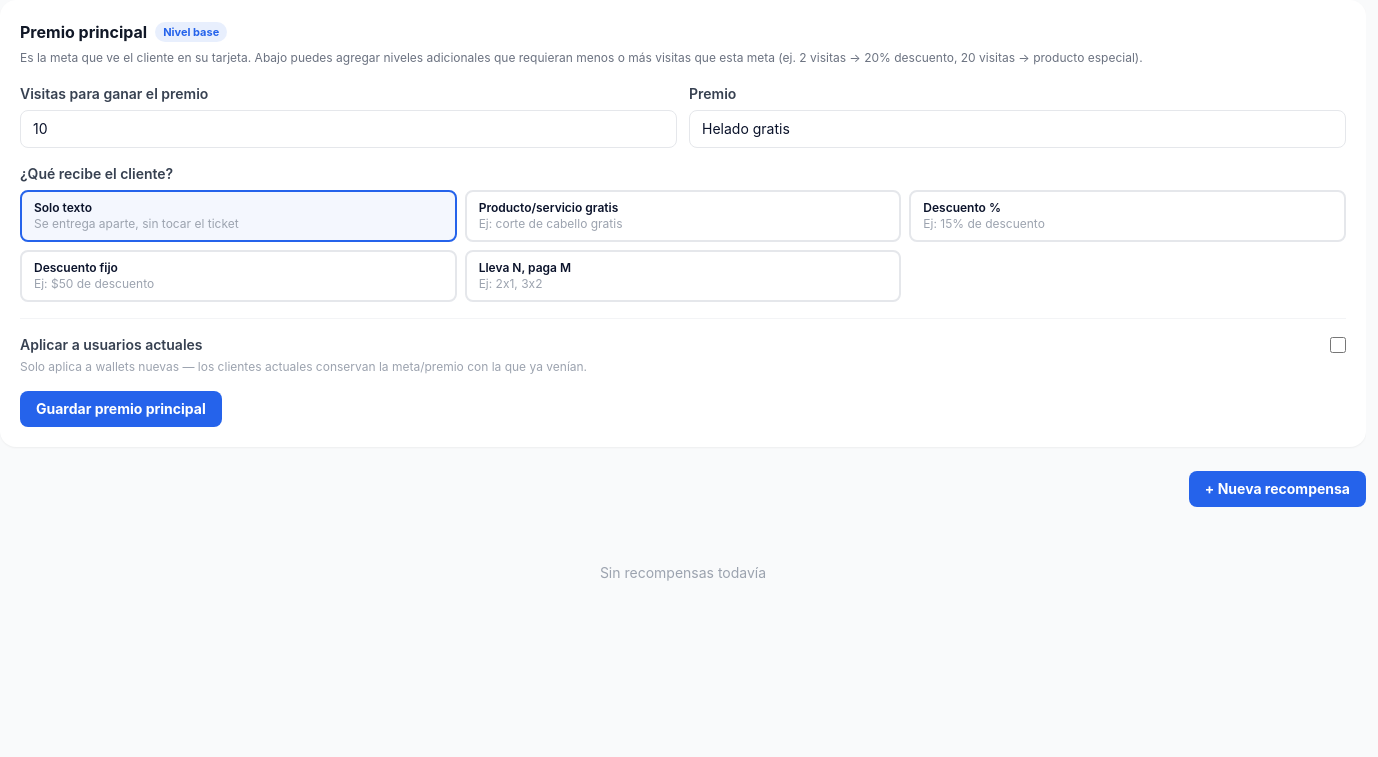
Premio principal configurable › valida la config antes de guardar (descuento sin porcentaje)
This screenshot has width=1378, height=757.
Click the button "Descuento % Ej: 15% de descuento" at (962, 208), box [909, 190, 1346, 242]
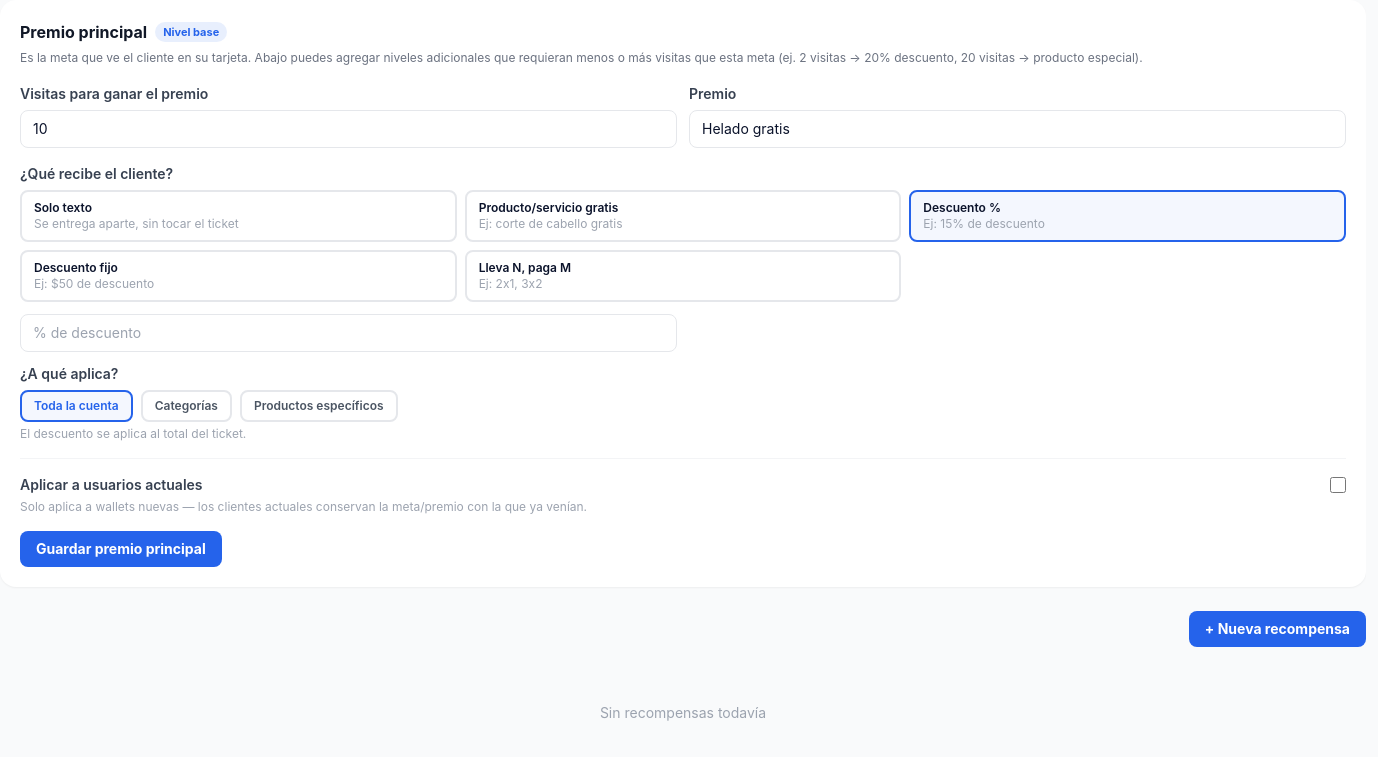
Click the button "Guardar premio principal" at (121, 549), box [20, 531, 222, 567]
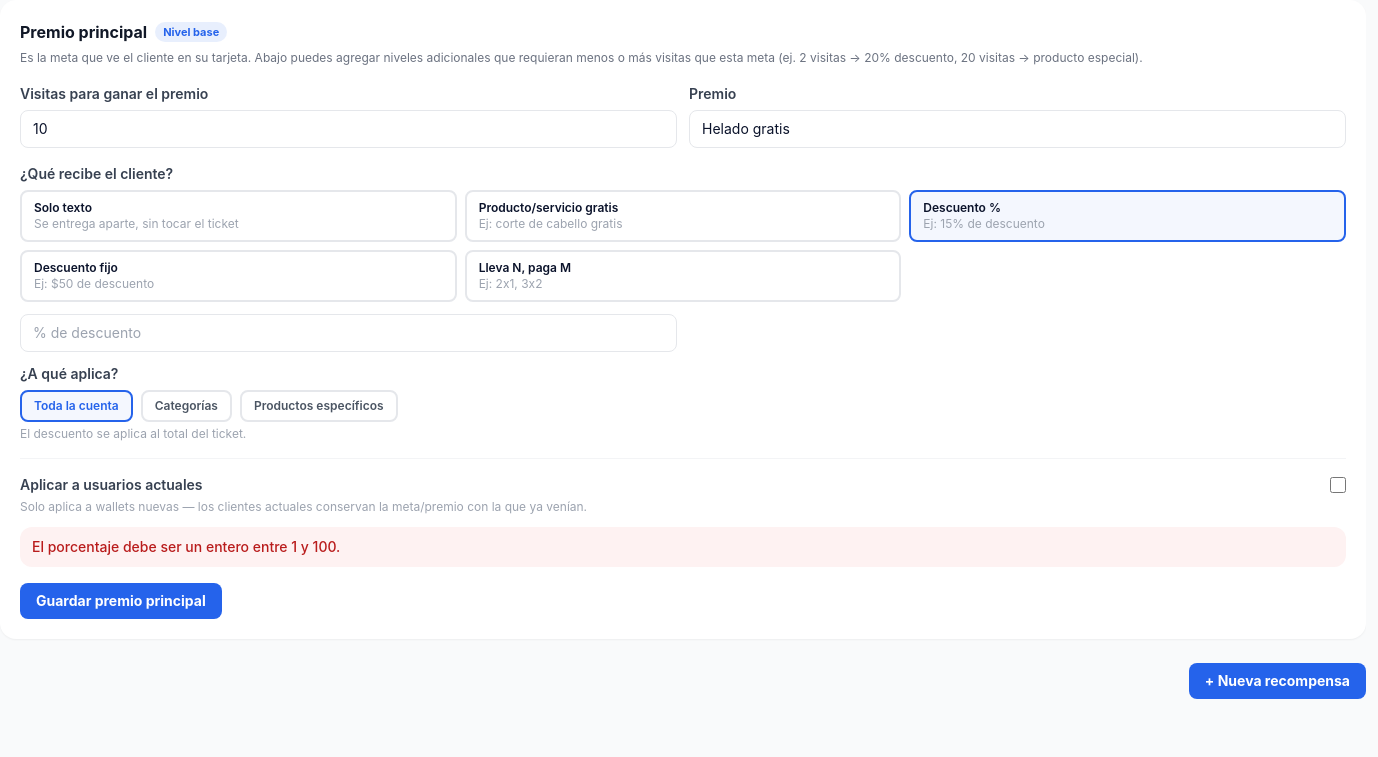
Now the text "porcentaje" is shown, box [32, 538, 340, 555]
